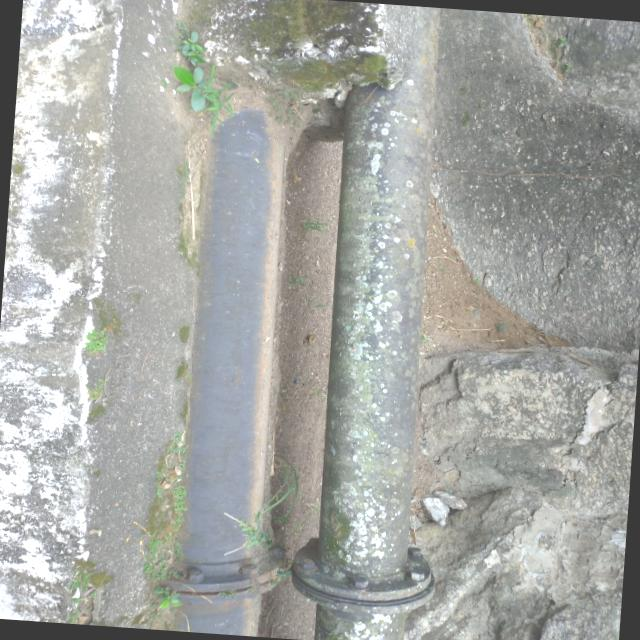gas: (317, 93, 432, 640), (182, 118, 287, 627)
